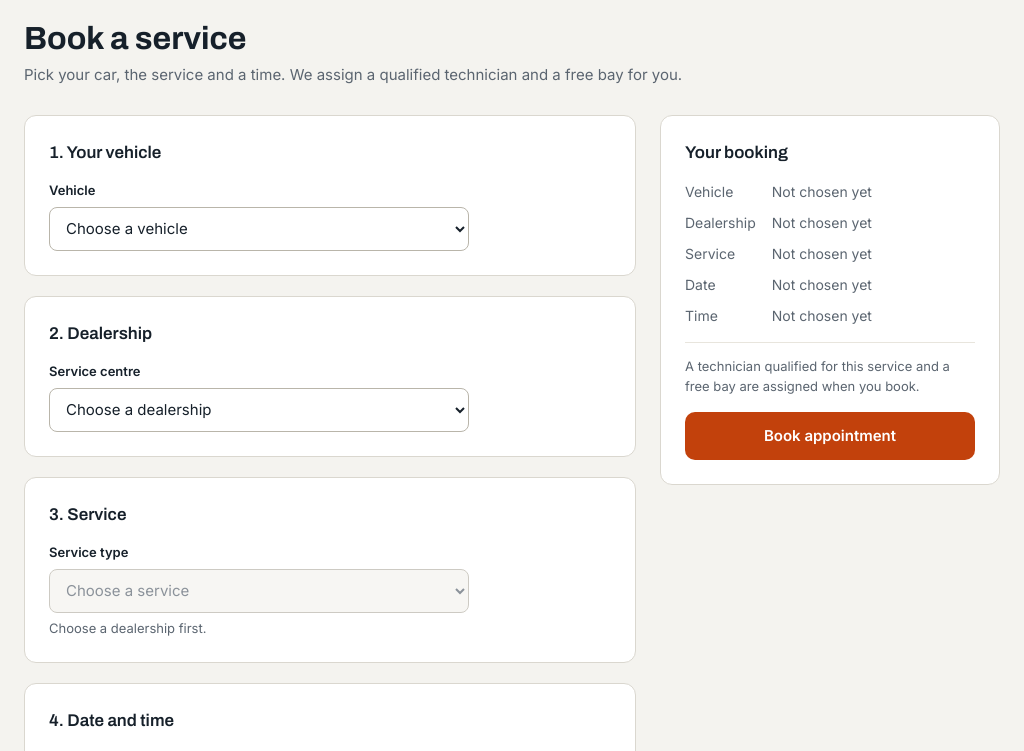
Test: BookingPage › does not submit without the required fields and shows what is missing
The image size is (1024, 751).
Expected: the dropdown labelled "Vehicle" is shown, [49, 207, 469, 251]
Click the button "Book appointment" at (830, 436), box [685, 412, 975, 460]
(page scrolled)
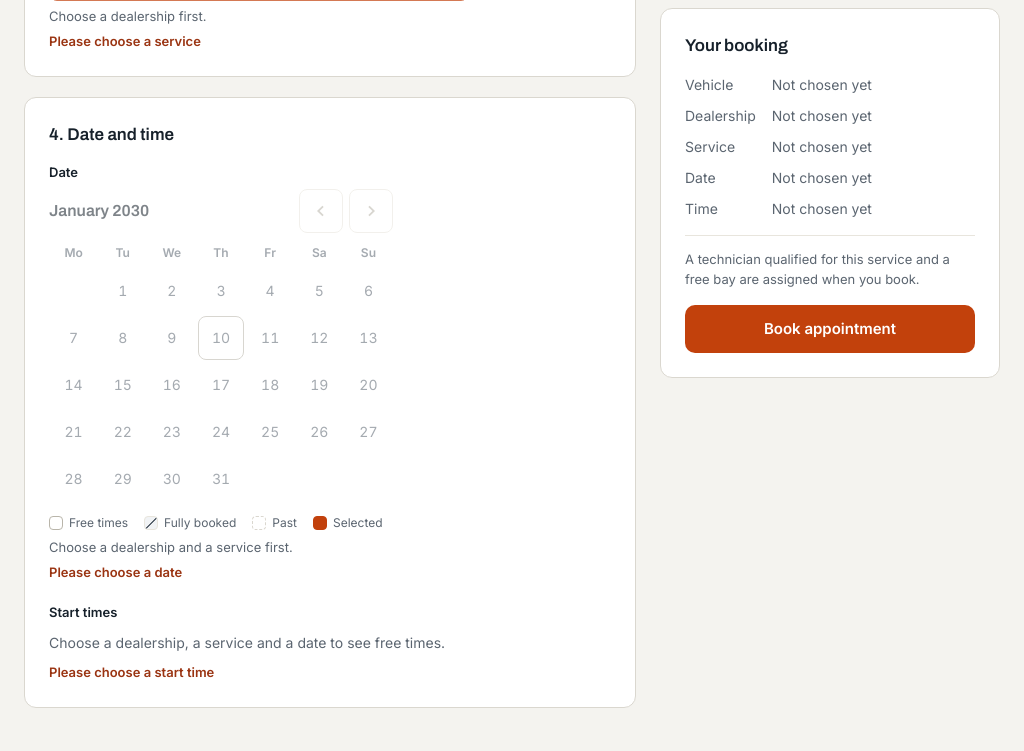
Now the text "Please choose a service" is shown, box [49, 33, 201, 49]
Now the text "Please choose a date" is shown, box [49, 564, 182, 580]
Now the text "Please choose a start time" is shown, box [49, 664, 214, 680]
